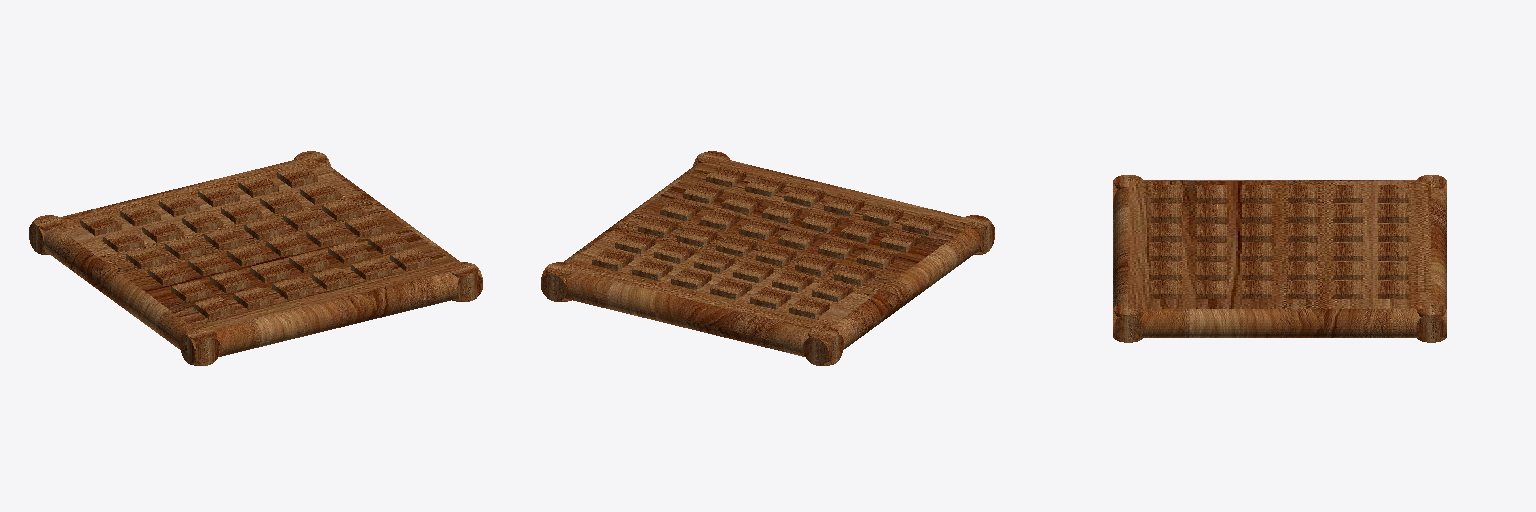
3 views of the same model, side by side, from view 1: azimuth 30°, elevation 25°; view 2: azimuth 150°, elevation 25°; view 3: azimuth 270°, elevation 25° (orthographic).
Parts seen in each view (by area): view 1: Cylinder.003, Cube.021, Cube.026, Cube.031, Cube.016, Cube.013, Cube.029, Cube.008, Cube.034, Cube.020, Cube.004, Cube.015 (+25 smaller); view 2: Cylinder.003, Cube.008, Cube.015, Cube.006, Cube.022, Cube.019, Cube.029, Cube.026, Cube.036, Cube.033, Cube.014, Cube.021 (+25 smaller); view 3: Cylinder.003, Cube.005, Cube.032, Cube.008, Cube.014, Cube.020, Cube.026, Cube.001, Cube.002, Cube.003, Cube.004, Cube.006 (+25 smaller).
Part boxes in pixels (x1,y1,x2,y2): Cylinder.003: (29,151,482,365); Cube.021: (204,227,245,249); Cube.026: (142,220,183,242); Cube.031: (80,213,121,235); Cube.016: (266,234,307,256); Cube.013: (148,263,189,285); Cube.029: (260,191,301,213); Cube.008: (210,270,251,292); Cube.034: (198,184,239,206); Cube.020: (165,237,205,259); Cube.004: (272,277,313,299); Cube.015: (227,244,267,266); Cylinder.003: (541,151,994,365); Cube.008: (840,220,881,242); Cube.015: (778,227,819,249); Cube.006: (902,213,943,235); Cube.022: (716,234,757,256); Cube.019: (834,263,875,285); Cube.029: (654,241,695,263); Cube.026: (772,270,813,292); Cube.036: (592,248,633,270); Cube.033: (710,277,751,299); Cube.014: (818,237,858,259); Cube.021: (756,244,796,266); Cylinder.003: (1113,175,1446,342); Cube.005: (1151,204,1181,222); Cube.032: (1378,204,1408,222); Cube.008: (1197,204,1226,222); Cube.014: (1242,204,1271,222); Cube.020: (1288,204,1317,222); Cube.026: (1333,204,1362,222); Cube.001: (1151,281,1181,298); Cube.002: (1151,262,1181,279); Cube.003: (1151,243,1181,260); Cube.004: (1151,224,1181,241); Cube.006: (1151,185,1181,202).
Size of the model in its own units: 22 by 2.4 by 22.
Materials: 2 (1 with a texture image).